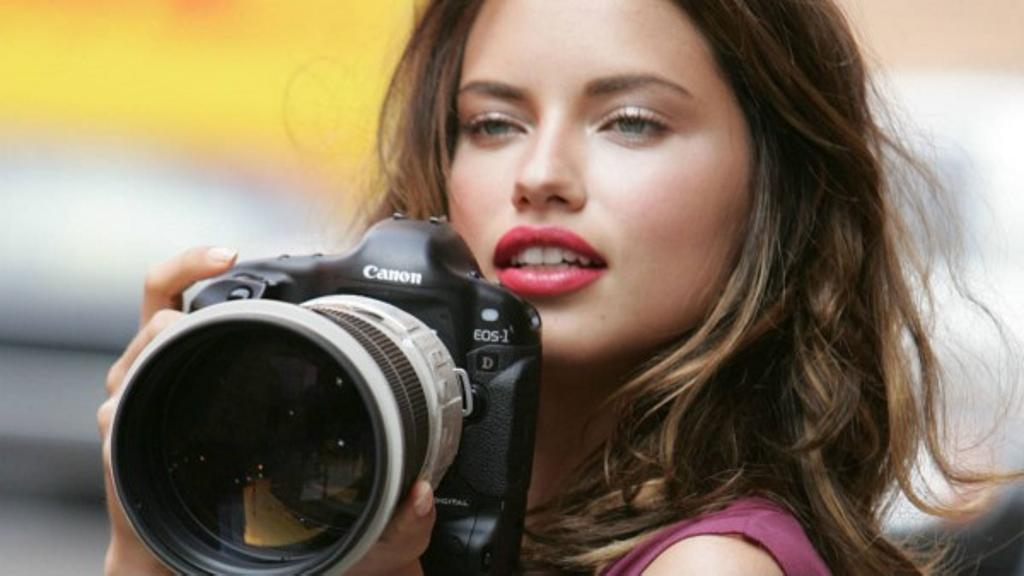face: (450, 10, 748, 364)
